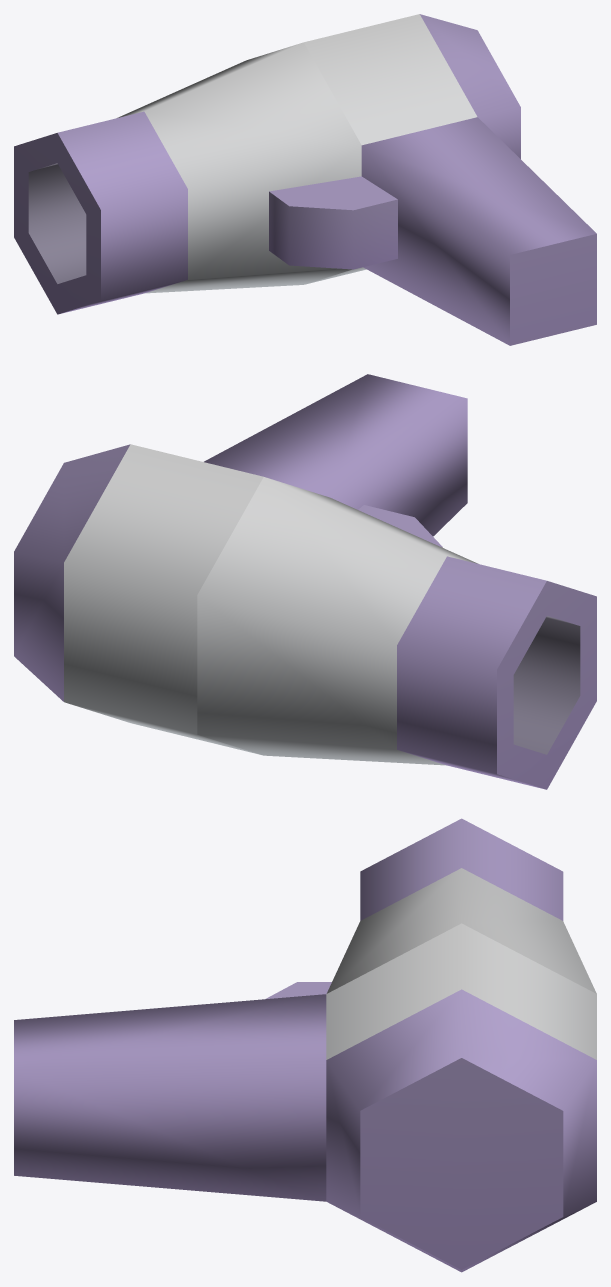
The model's file is hair-dryer.glb.
3 views of the same model, one above another, from view 1: azimuth 30°, elevation 25°; view 2: azimuth 150°, elevation 25°; view 3: azimuth 270°, elevation 25° (orthographic). The views are drawn at different scales.
Parts seen in each view (by area): view 1: hair-dryer; view 2: hair-dryer; view 3: hair-dryer.
Boxes of the visible parts, x1,y1,x2,y2 form: hair-dryer: (14,14,596,345); hair-dryer: (14,374,596,789); hair-dryer: (14,818,596,1272).
Bounding box in the file's own units: 0.319 × 0.176 × 0.3284.
